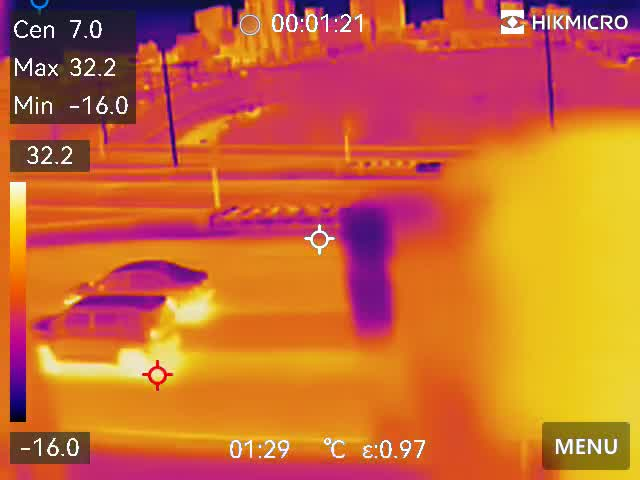largeCar: (26, 288, 184, 380)
smallCar: (66, 258, 217, 317)
